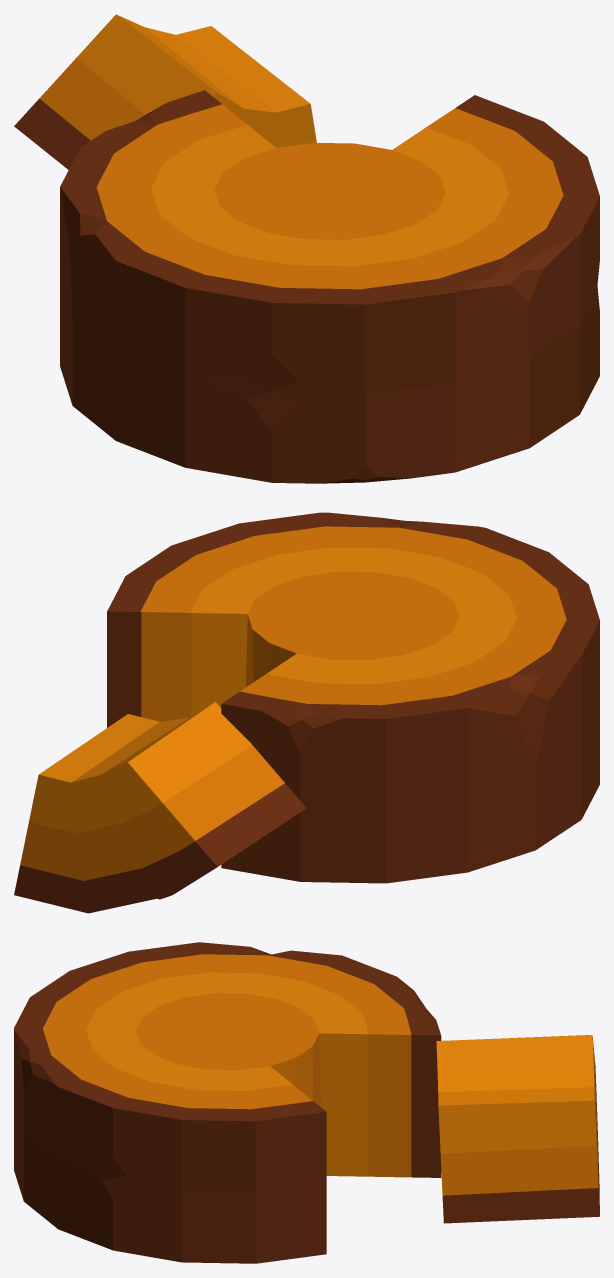
Rendered from Tree log_25.fbx.
3 renders of one model, top to bottom at view 1: azimuth 30°, elevation 25°; view 2: azimuth 150°, elevation 25°; view 3: azimuth 270°, elevation 25°, orthographic. The views are drawn at different scales.
Parts seen in each view (by area): view 1: Circle.436, Circle.437; view 2: Circle.436, Circle.437; view 3: Circle.436, Circle.437.
Part boxes in pixels (<box>): Circle.436: <box>60,90,599,483</box>; Circle.437: <box>14,14,316,169</box>; Circle.436: <box>107,512,599,883</box>; Circle.437: <box>14,702,306,913</box>; Circle.436: <box>14,942,441,1263</box>; Circle.437: <box>436,1035,599,1223</box>.
Size of the model in its own units: 23.35 by 8.86 by 32.29.
